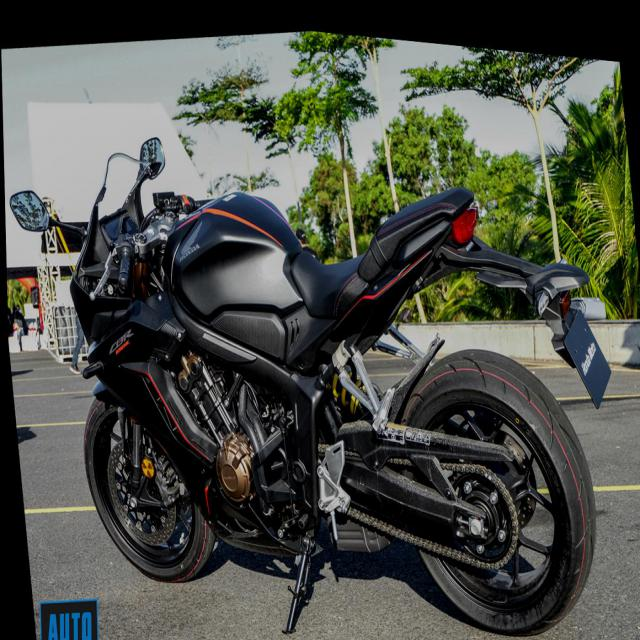CBR650R: (1, 48, 638, 640)
